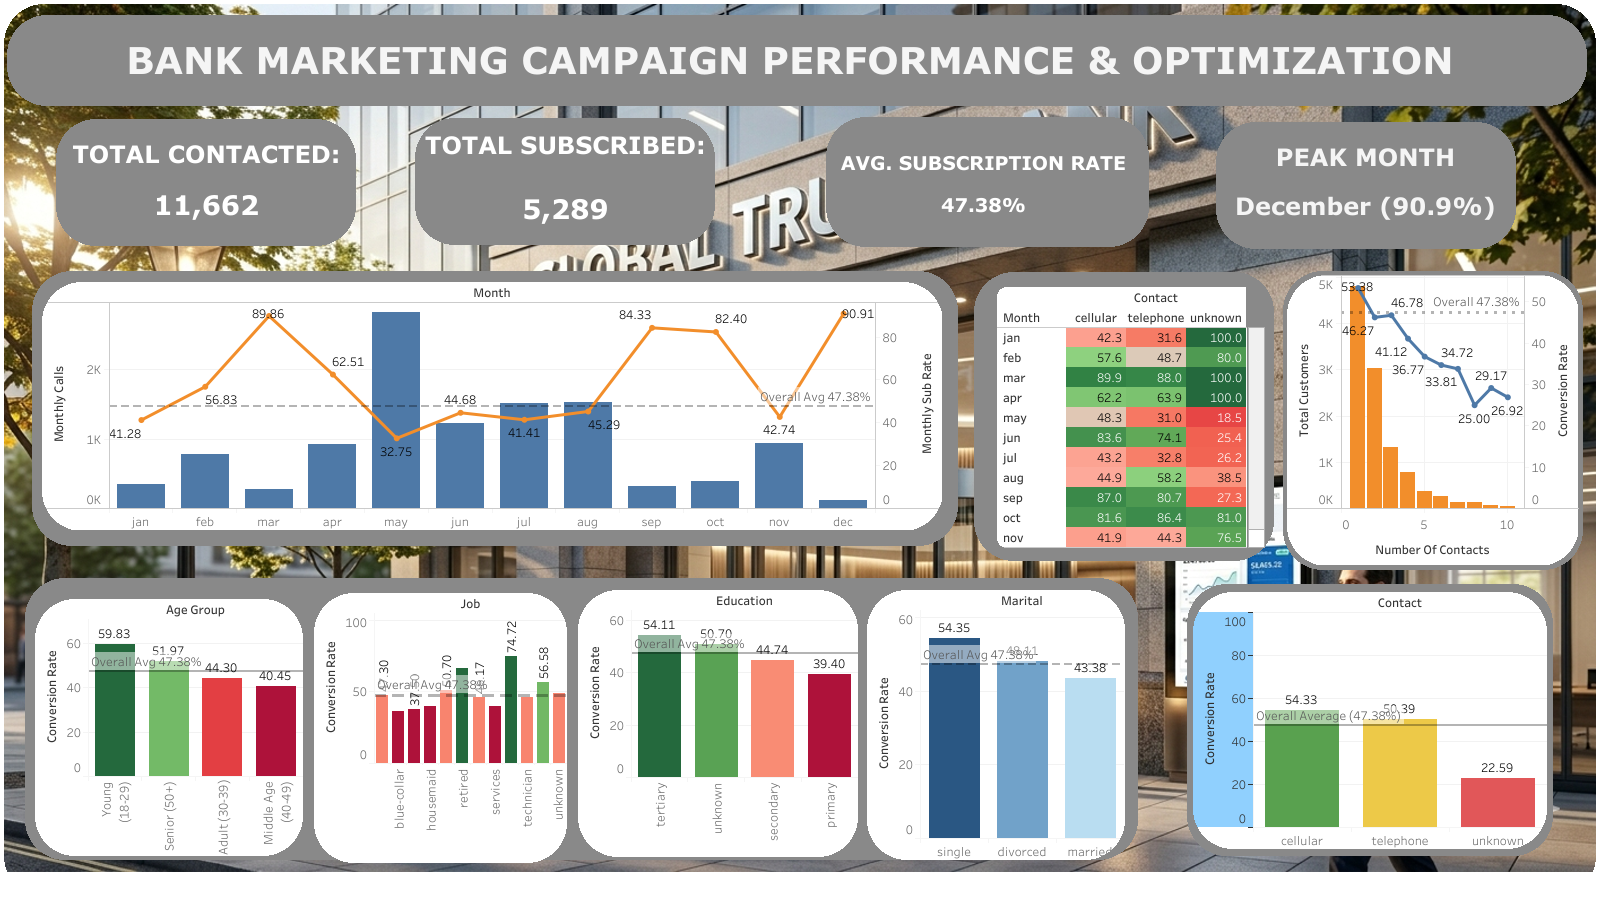

This screenshot's page, from the dashboard's own definition file:
{"tool":"tableau","page":{"name":"Dashboard 1","canvas":[1600,900],"ordinal":0},"visuals":[{"type":"image","param":"Image/Gemini_Generated_Image_sl6rlxsl6rlxsl6r.png","box":[0,0,1600,900]},{"type":"text","box":[56,25,1468,67]},{"type":"text","box":[767,101,433,163]},{"type":"text","box":[394,106,343,142]},{"type":"text","box":[1138,110,455,142]},{"type":"text","box":[61,119,291,120]},{"type":"worksheet","title":"Sheet 8","mark":"Automatic","rows":["total_customers","conversion_rate"],"cols":["number_of_contacts"],"box":[1283,271,300,299]},{"type":"worksheet","title":"Monthly Calls Coversion","mark":"Automatic","rows":["monthly_calls","monthly_sub_rate"],"cols":["month"],"box":[42,282,901,249]},{"type":"worksheet","title":"PS2 - Month Contact Heatmap","mark":"Square","rows":["month"],"cols":["contact"],"box":[997,287,300,261]},{"type":"worksheet","title":"PS2-C Education Group Conversion","mark":"Automatic","rows":["conversion_rate"],"cols":["education"],"box":[578,590,280,267]},{"type":"worksheet","title":"PS2-A Marital Group Conversion","mark":"Automatic","rows":["conversion_rate"],"cols":["marital"],"box":[867,590,258,270]},{"type":"worksheet","title":"Contact Type Conversion Rate","mark":"Automatic","rows":["conversion_rate"],"cols":["contact"],"box":[1193,592,354,257]},{"type":"worksheet","title":"PS2-B Job Group Conversion","mark":"Automatic","rows":["conversion_rate"],"cols":["job"],"box":[314,593,253,270]},{"type":"worksheet","title":"PS2-A Age Group Conversion","mark":"Automatic","rows":["conversion_rate"],"cols":["age_group"],"box":[35,599,268,257]}]}

Visuals, with their boxes in screenshot pixels (x1, y1, x2, y2), scaled from the page's 1600x900 canvas onto the 1599x899 screenshot:
image: (x1=0, y1=0, x2=1598, y2=898)
text: (x1=56, y1=25, x2=1523, y2=92)
text: (x1=767, y1=101, x2=1199, y2=264)
text: (x1=394, y1=106, x2=737, y2=248)
text: (x1=1137, y1=110, x2=1592, y2=252)
text: (x1=61, y1=119, x2=352, y2=239)
"Sheet 8" worksheet: (x1=1282, y1=271, x2=1582, y2=569)
"Monthly Calls Coversion" worksheet: (x1=42, y1=282, x2=942, y2=530)
"PS2 - Month Contact Heatmap" worksheet (Square marks): (x1=996, y1=287, x2=1296, y2=547)
"PS2-C Education Group Conversion" worksheet: (x1=578, y1=589, x2=857, y2=856)
"PS2-A Marital Group Conversion" worksheet: (x1=866, y1=589, x2=1124, y2=859)
"Contact Type Conversion Rate" worksheet: (x1=1192, y1=591, x2=1546, y2=848)
"PS2-B Job Group Conversion" worksheet: (x1=314, y1=592, x2=567, y2=862)
"PS2-A Age Group Conversion" worksheet: (x1=35, y1=598, x2=303, y2=855)
